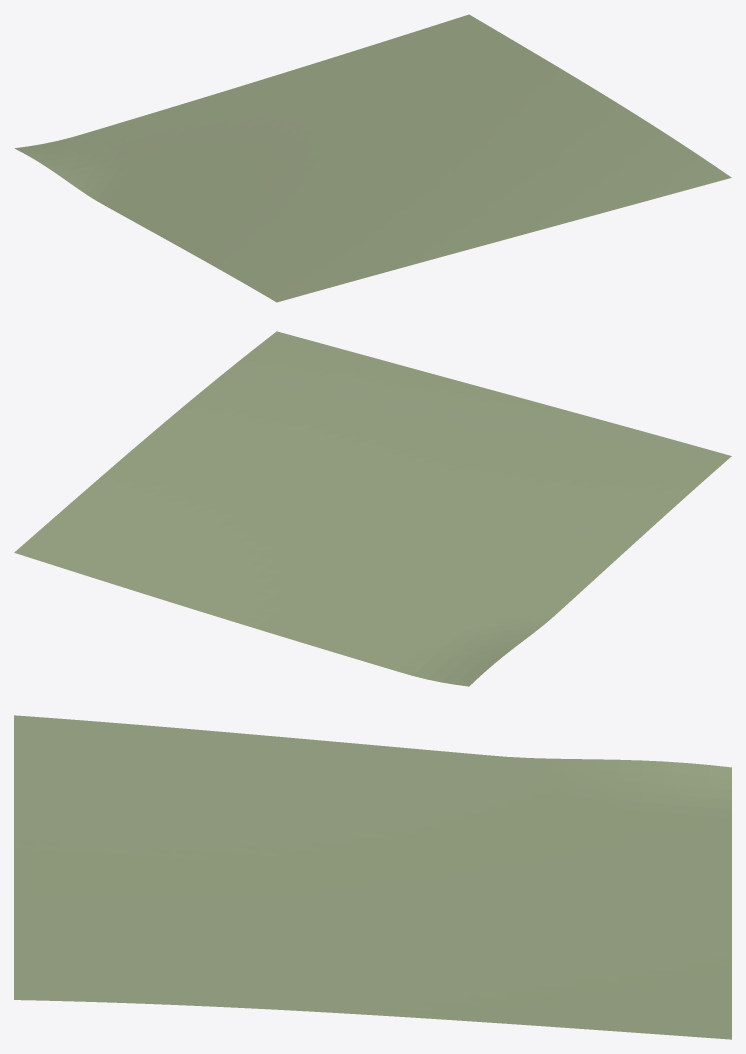
File: desert-9-26.glb
3 views of the same model, one above another, from view 1: azimuth 30°, elevation 25°; view 2: azimuth 150°, elevation 25°; view 3: azimuth 270°, elevation 25° (orthographic). The views are drawn at different scales.
Parts seen in each view (by area): view 1: desert-9-26; view 2: desert-9-26; view 3: desert-9-26.
Boxes of the visible parts, box(x1,y1,x2,y2) form: desert-9-26: box(14, 14, 731, 302); desert-9-26: box(14, 331, 731, 686); desert-9-26: box(14, 715, 731, 1039).
Bounding box in the file's own units: 512 × 59.14 × 512.
